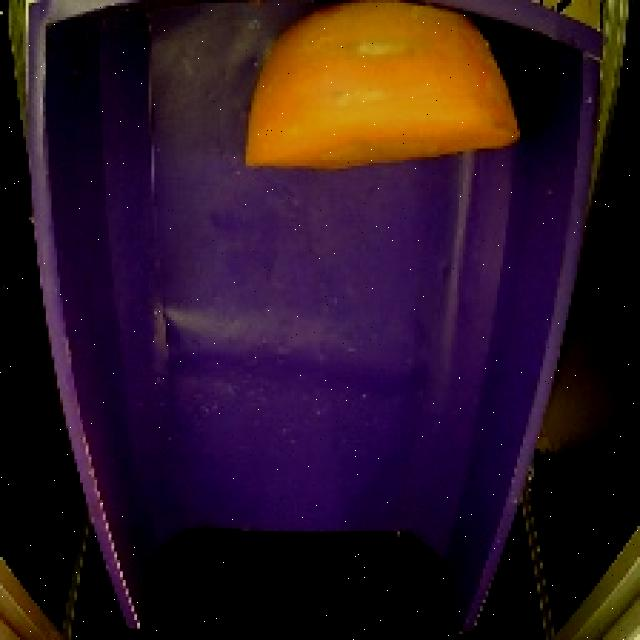carrots: (234, 4, 531, 184)
